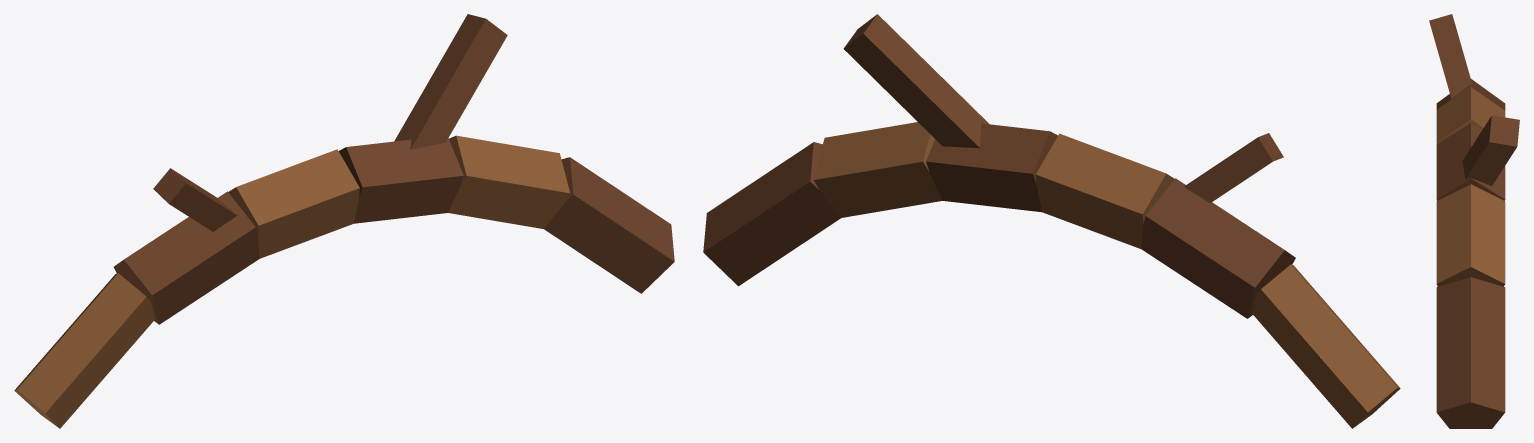
File: terrarium_branch_low.glb
The picture shows the model from 3 angles, left to right: view 1: azimuth 30°, elevation 25°; view 2: azimuth 150°, elevation 25°; view 3: azimuth 270°, elevation 25°; orthographic projection. The views are drawn at different scales.
Parts seen in each view (by area): view 1: terrarium_branch_low; view 2: terrarium_branch_low; view 3: terrarium_branch_low.
Part boxes in pixels (x1,y1,x2,y2): terrarium_branch_low: (14,14,674,428); terrarium_branch_low: (703,14,1400,428); terrarium_branch_low: (1429,14,1519,428).
Size of the model in its own units: 2.78 by 1.18 by 0.3774.
Materials: 1 (1 with a texture image).
